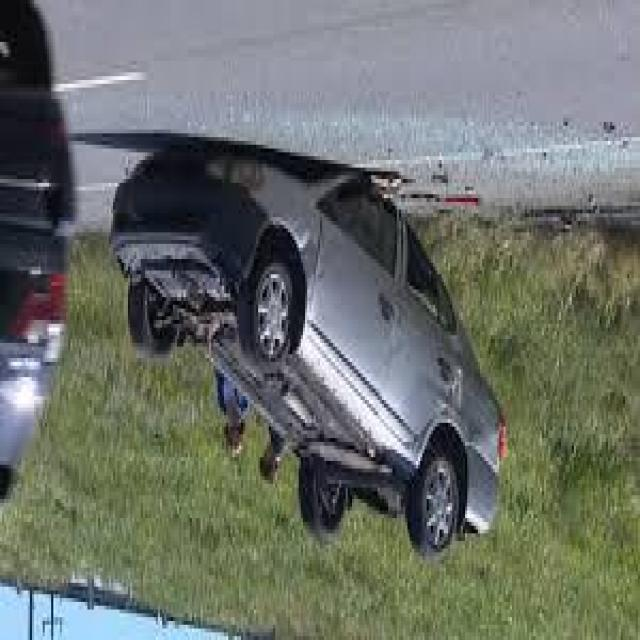severe: (106, 141, 512, 560)
